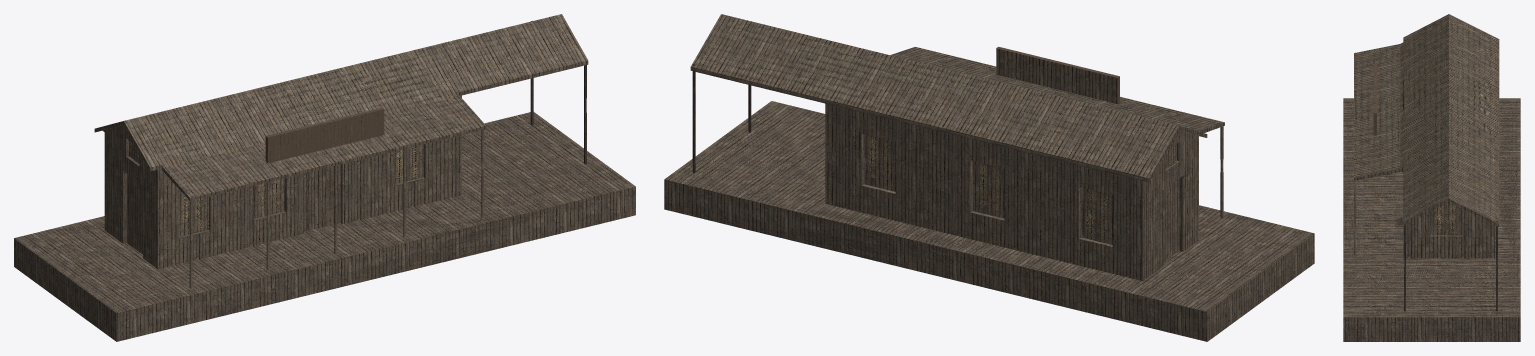
The model's file is House 4 N.fbx.
3 views of the same model, side by side, from view 1: azimuth 30°, elevation 25°; view 2: azimuth 150°, elevation 25°; view 3: azimuth 270°, elevation 25° (orthographic). The views are drawn at different scales.
Parts seen in each view (by area): view 1: Model; view 2: Model; view 3: Model.
Part boxes in pixels (box(x1,y1,x2,y2)): Model: box(14, 14, 635, 341); Model: box(664, 14, 1314, 341); Model: box(1343, 14, 1520, 341).
Bounding box in the file's own units: 116 × 34.06 × 39.69.
